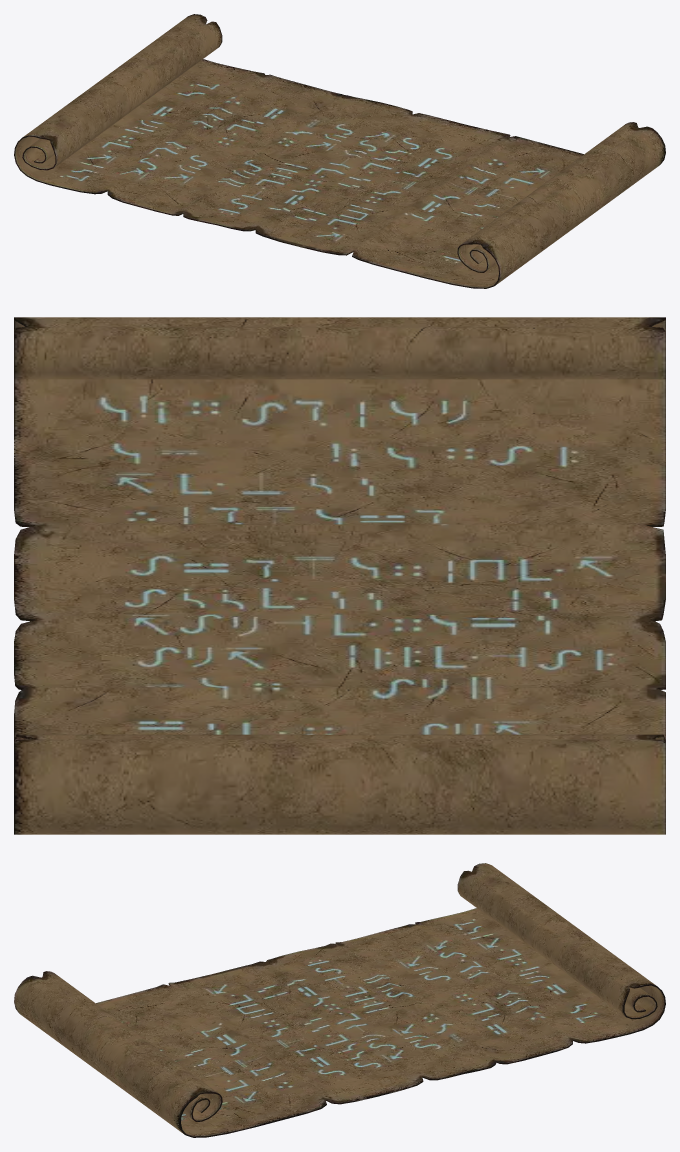
Rendered from scroll.glb.
3 renders of one model, top to bottom at view 1: azimuth 30°, elevation 25°; view 2: azimuth 150°, elevation 25°; view 3: azimuth 270°, elevation 25°, orthographic. The views are drawn at different scales.
Parts seen in each view (by area): view 1: Scroll; view 2: Scroll; view 3: Scroll.
Boxes of the visible parts, box(x1,y1,x2,y2) form: Scroll: box(14, 14, 665, 288); Scroll: box(14, 317, 665, 834); Scroll: box(14, 863, 665, 1137).
Size of the model in its own units: 7.69 by 0.7039 by 8.83.
1 material, 1 textured.
